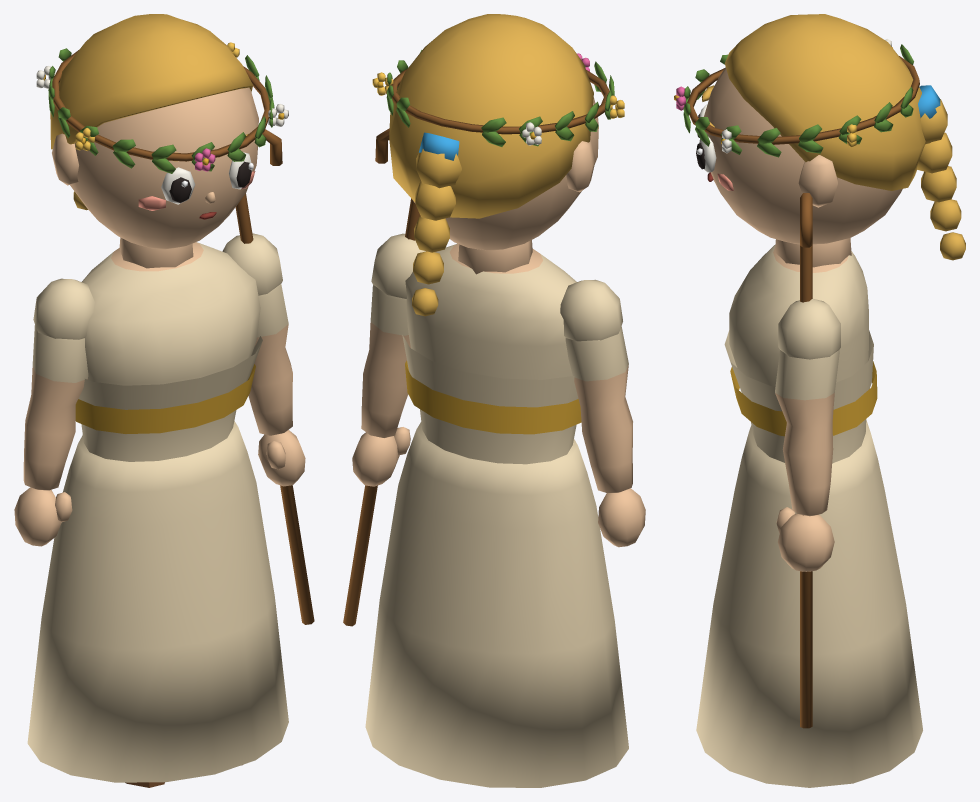
Rendered from hirtin.glb.
3 views of the same model, side by side, from view 1: azimuth 30°, elevation 25°; view 2: azimuth 150°, elevation 25°; view 3: azimuth 270°, elevation 25° (orthographic).
Visible parts, largest first — view 1: huefte, rumpf, kopf, haare, armL, armR, kopfschmuck, itemR, augeL, augeR; view 2: huefte, haare, rumpf, armL, armR, kopf, kopfschmuck, itemR; view 3: huefte, haare, rumpf, kopf, armR, kopfschmuck, itemR, augeR.
Boxes of the visible parts, <box> form: huefte: <box>27,421,288,782</box>; rumpf: <box>75,242,262,461</box>; kopf: <box>52,87,258,268</box>; haare: <box>50,14,253,210</box>; armL: <box>14,278,94,546</box>; armR: <box>222,233,305,486</box>; kopfschmuck: <box>36,42,288,173</box>; itemR: <box>235,129,314,624</box>; augeL: <box>161,167,195,204</box>; augeR: <box>228,152,253,189</box>; huefte: <box>365,422,628,787</box>; haare: <box>389,14,593,316</box>; rumpf: <box>402,243,581,464</box>; armL: <box>560,279,645,547</box>; armR: <box>352,233,425,486</box>; kopf: <box>413,97,598,274</box>; kopfschmuck: <box>372,50,624,146</box>; itemR: <box>343,128,420,626</box>; huefte: <box>696,420,922,787</box>; haare: <box>724,14,965,260</box>; rumpf: <box>724,244,877,463</box>; kopf: <box>704,67,902,267</box>; armR: <box>775,299,840,571</box>; kopfschmuck: <box>674,39,919,157</box>; itemR: <box>800,193,812,728</box>; augeR: <box>696,136,716,172</box>.
Bounding box in the file's own units: 0.9722 × 2.29 × 0.8357.
